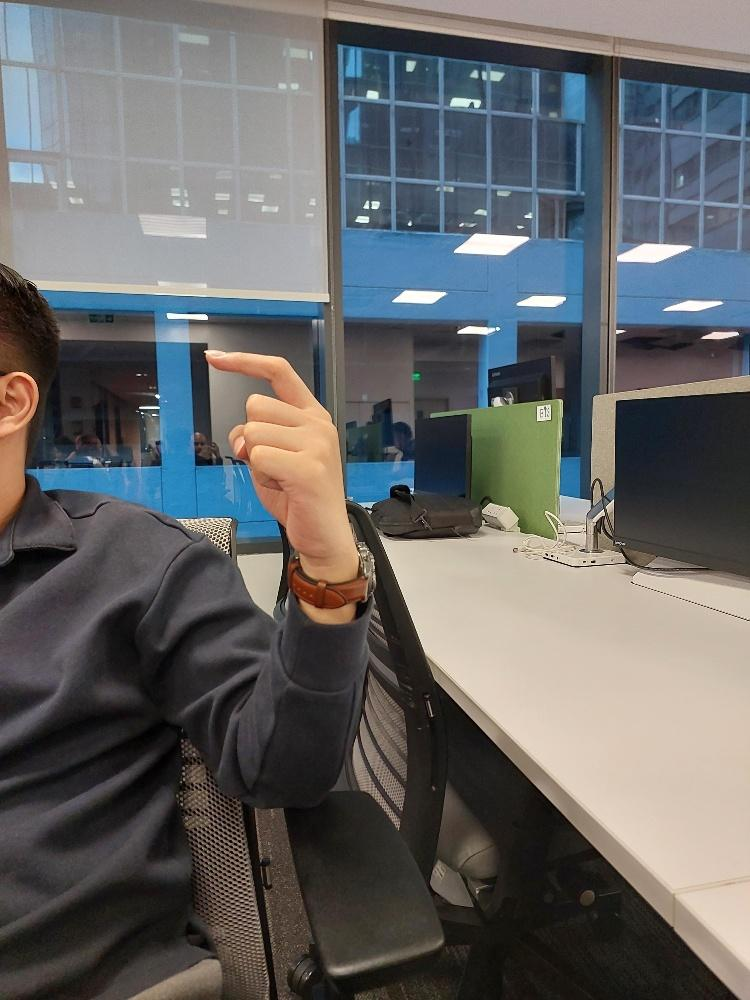x: (202, 345, 355, 557)
